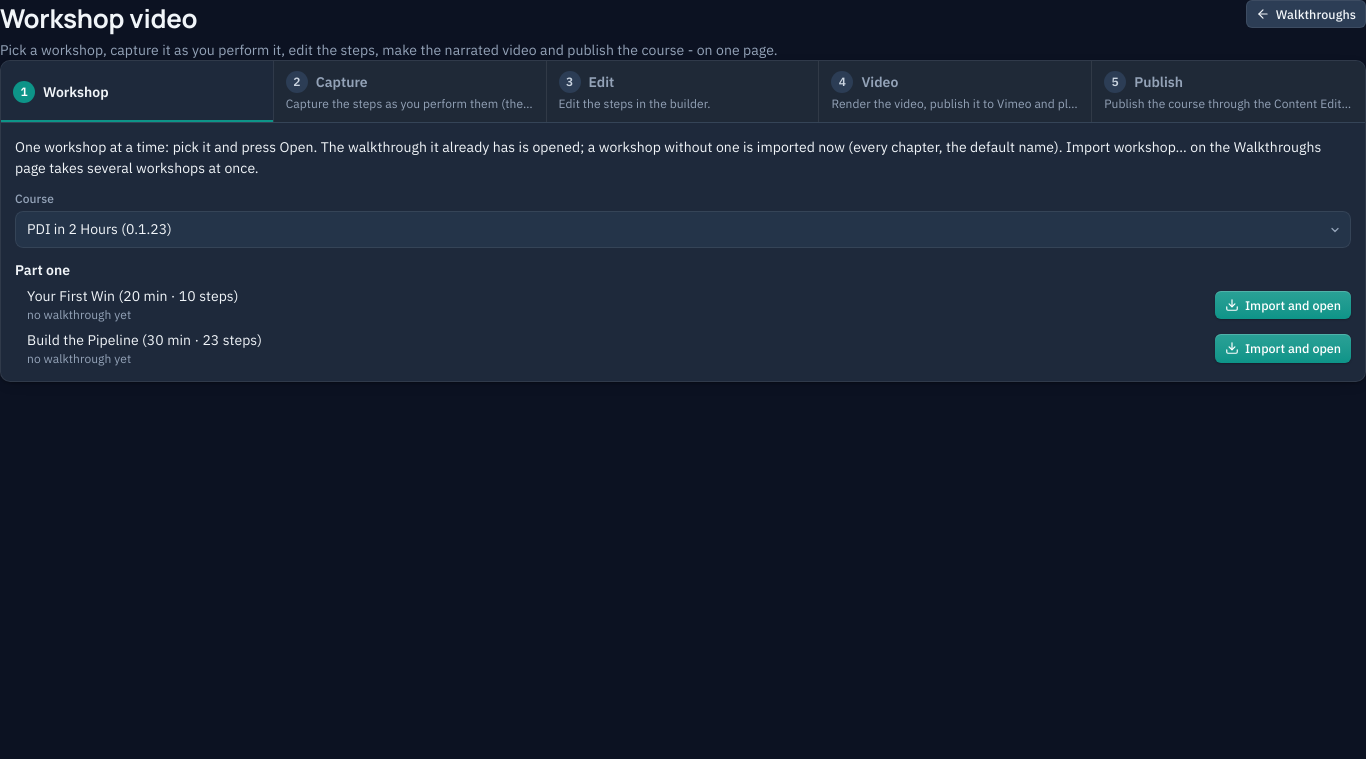
Test: Edit, Video and Publish (C4-C6) › Publish asks the editor, summarises the diff, prefills the message, publishes through the proxy and says so
The image size is (1366, 759).
Click the button "Import and open" in the row of "Your First Win (20 min · 10 steps)": (1283, 305) [1215, 291, 1351, 319]
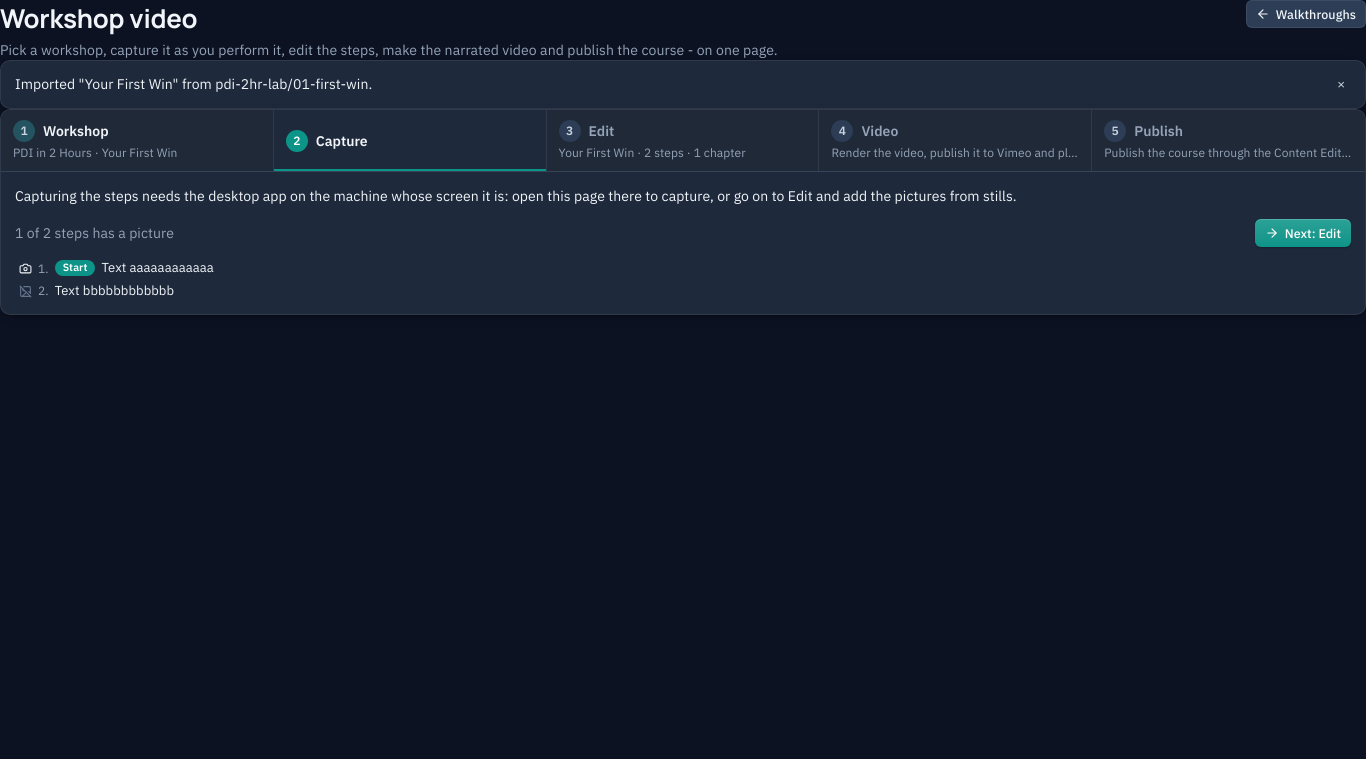
Click the button "Next: Edit": (1303, 233) [1255, 219, 1351, 247]
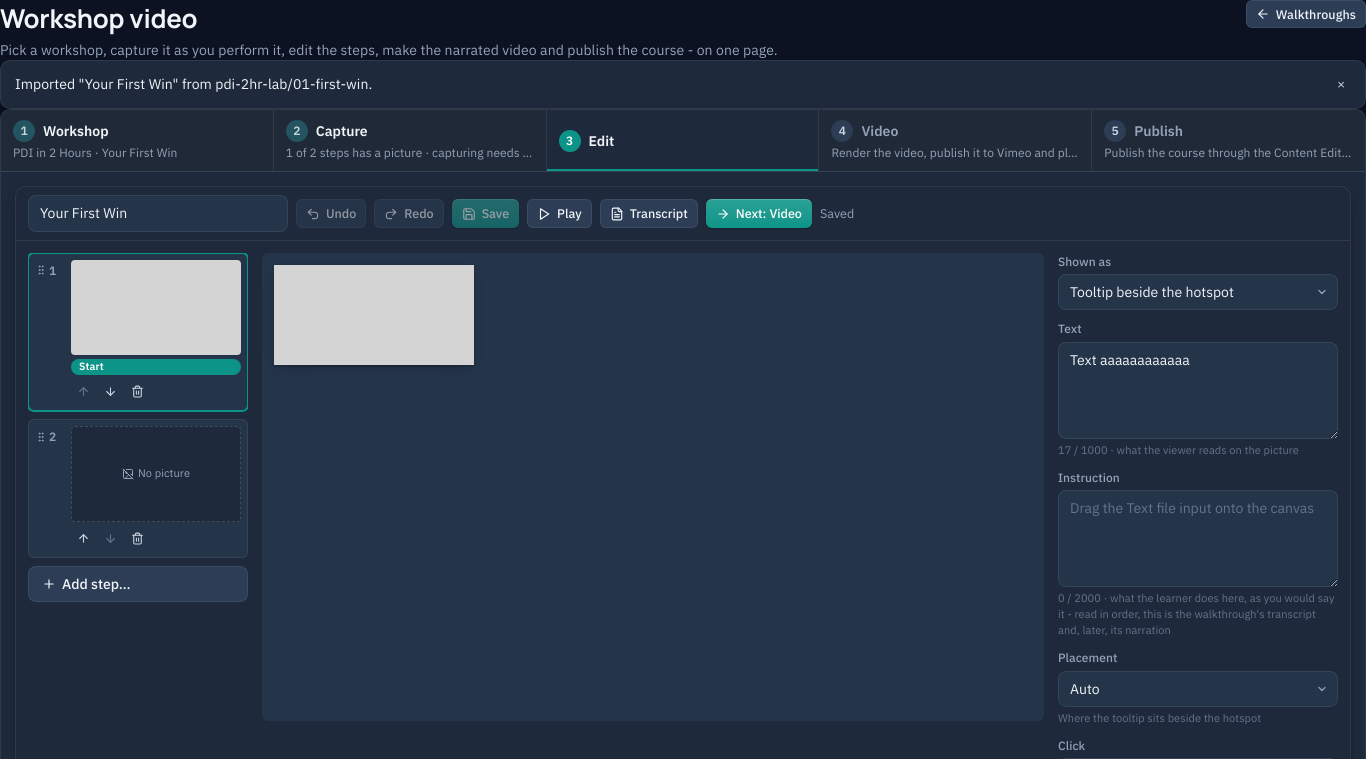
Click the button "Next: Video": (759, 214) [706, 200, 812, 228]
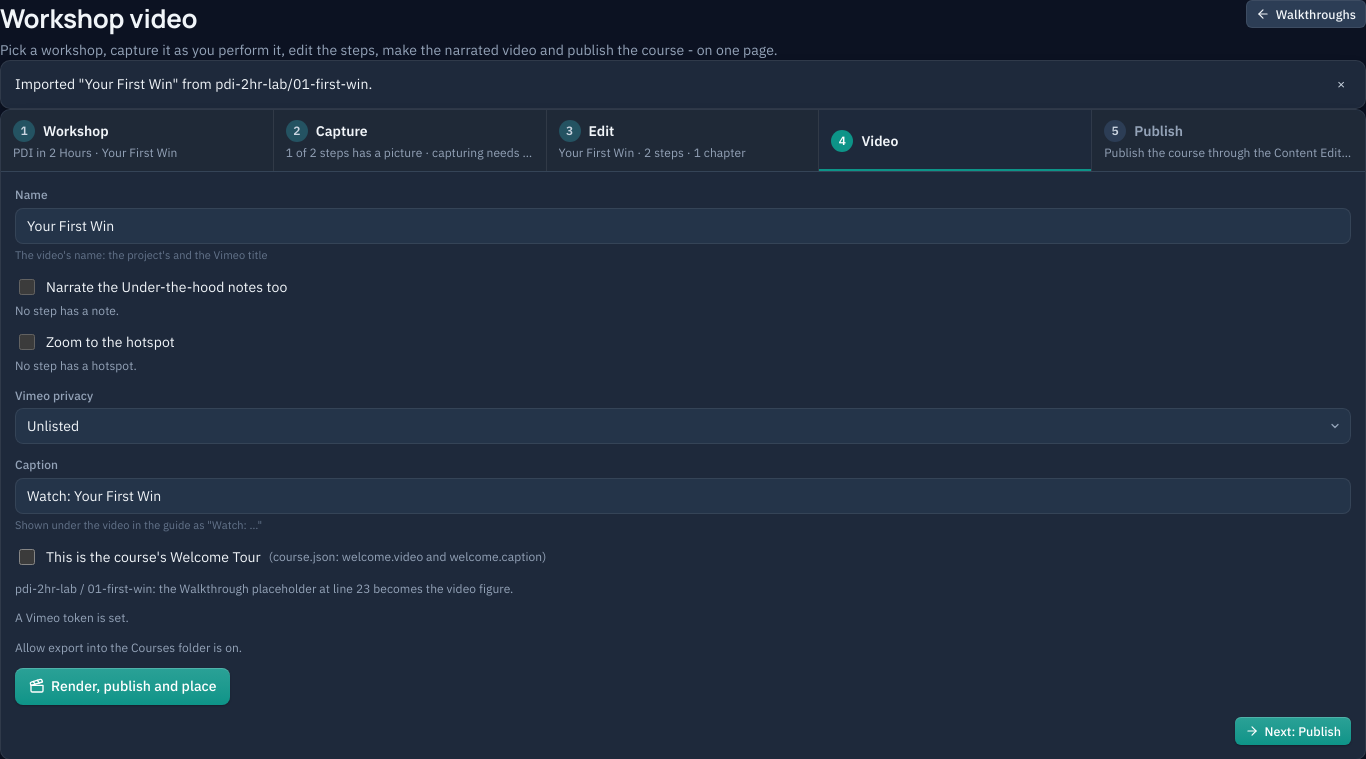
Click the button "Next: Publish": (1293, 731) [1234, 717, 1351, 745]
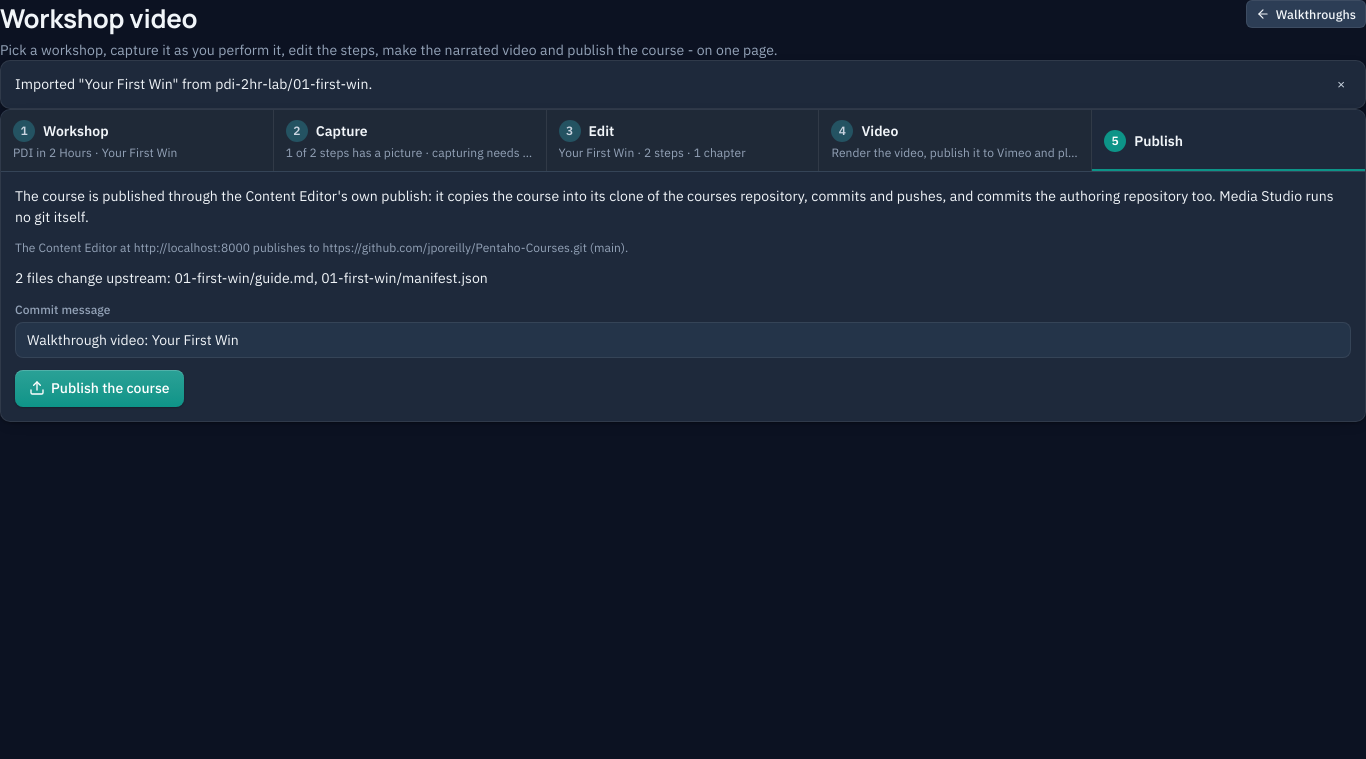
Result: the text "The Content Editor at http://localhost:8000 publishes to https://github.com/jporeilly/Pentaho-Courses.git (main)." is shown at [15, 240, 628, 255]
Result: the text "2 files change upstream: 01-first-win/guide.md, 01-first-win/manifest.json" is shown at [15, 269, 488, 287]
Result: the field labelled "Commit message" holds "Walkthrough video: Your First Win" at [15, 322, 1351, 358]
Click the button "Publish the course": (99, 388) [15, 370, 184, 407]
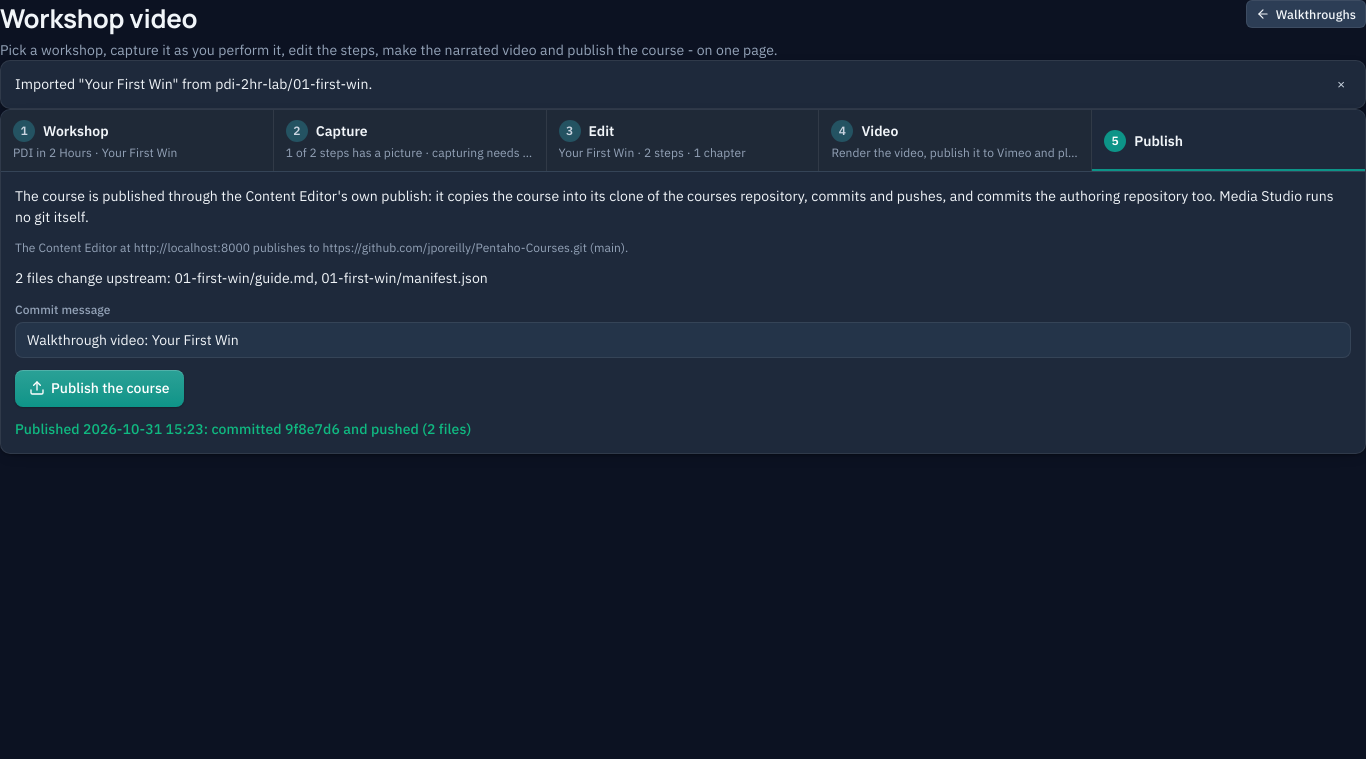
Result: the message "Published 2026-10-31 15:23: committed 9f8e7d6 and pushed (2 files)" is shown at [15, 420, 471, 438]
Click the button "1 Workshop": (137, 131) [13, 120, 261, 142]
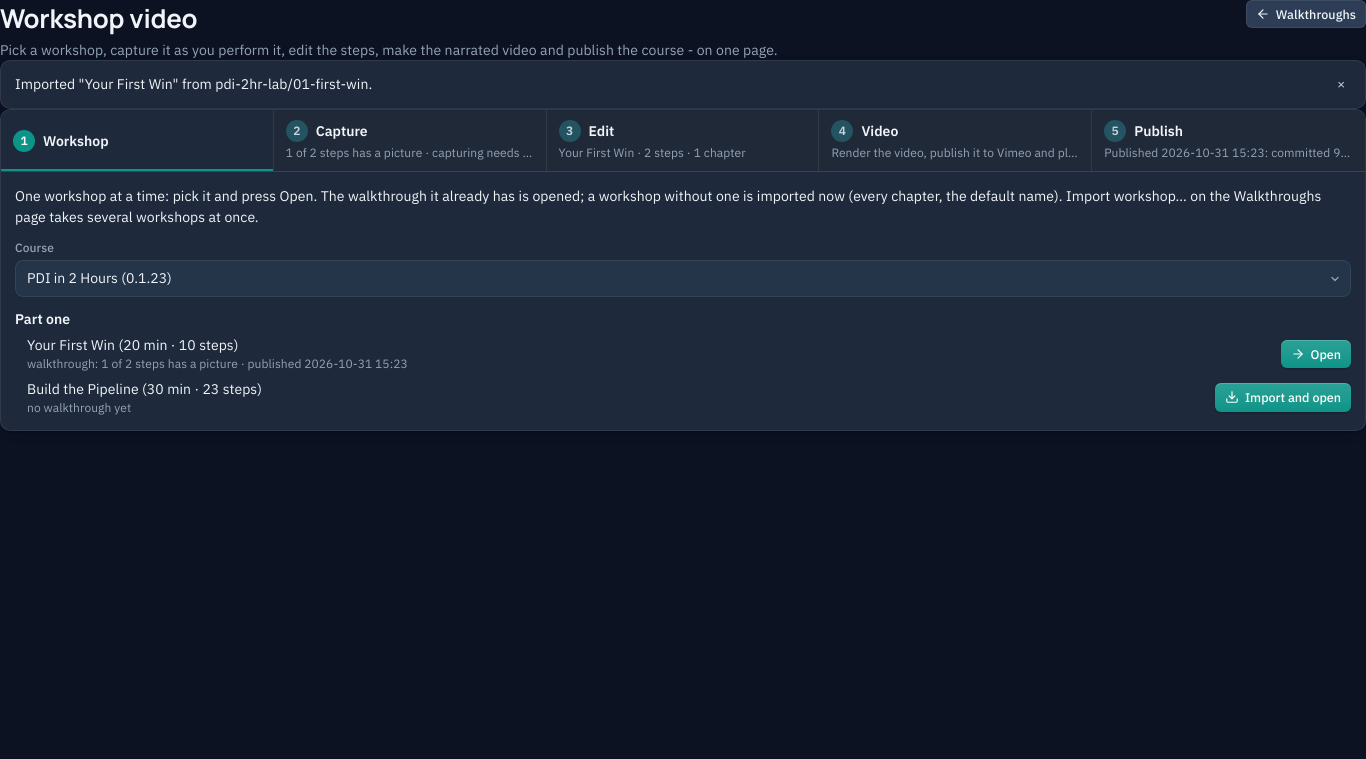
Result: the text "walkthrough: 1 of 2 steps has a picture · published 2026-10-31 15:23" is shown at [27, 356, 408, 371]
Result: the text "Published" is shown at [1104, 145, 1365, 160]
